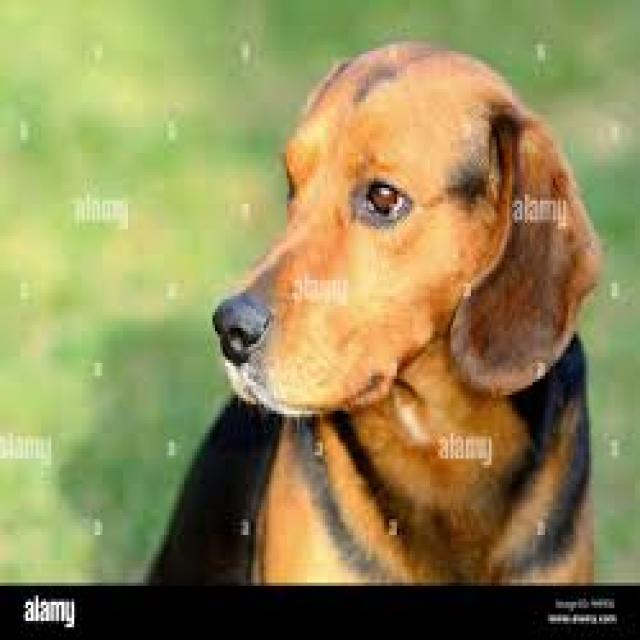Dog: (134, 32, 610, 585)
